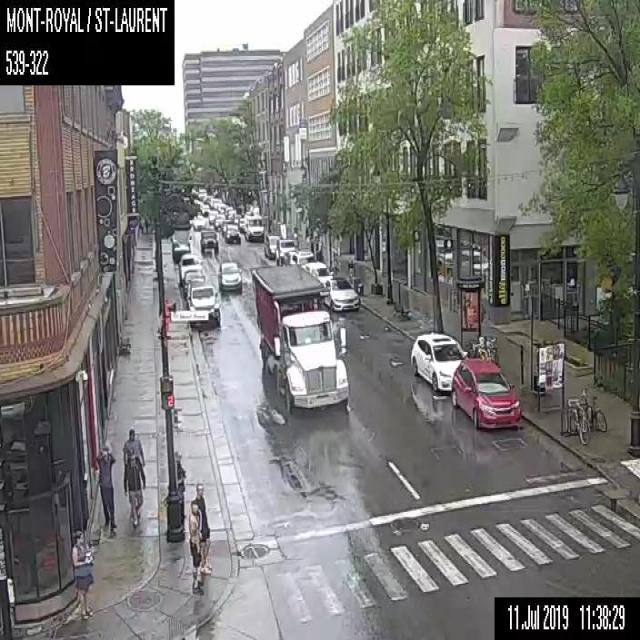pedestrian: (71, 531, 94, 620), (123, 446, 145, 526), (194, 482, 212, 573), (98, 441, 116, 528), (188, 500, 202, 598), (123, 428, 145, 465), (174, 450, 186, 517), (346, 254, 356, 278), (292, 224, 297, 239)
vehicle: (251, 263, 349, 416), (450, 359, 521, 428), (410, 331, 468, 392), (185, 280, 220, 326), (322, 275, 360, 311), (301, 261, 333, 286), (217, 261, 242, 293), (178, 252, 203, 284), (243, 210, 264, 242), (183, 269, 205, 298), (170, 232, 191, 261), (276, 238, 296, 264), (264, 234, 283, 258), (289, 249, 313, 266), (200, 228, 217, 252), (224, 223, 240, 243), (221, 218, 233, 234), (193, 214, 205, 229), (207, 210, 218, 223), (208, 197, 220, 208), (197, 188, 207, 200), (200, 203, 210, 214), (238, 217, 245, 232), (226, 208, 236, 218), (214, 217, 223, 228), (202, 194, 212, 203), (218, 203, 228, 212), (232, 212, 240, 223), (216, 213, 225, 220)
